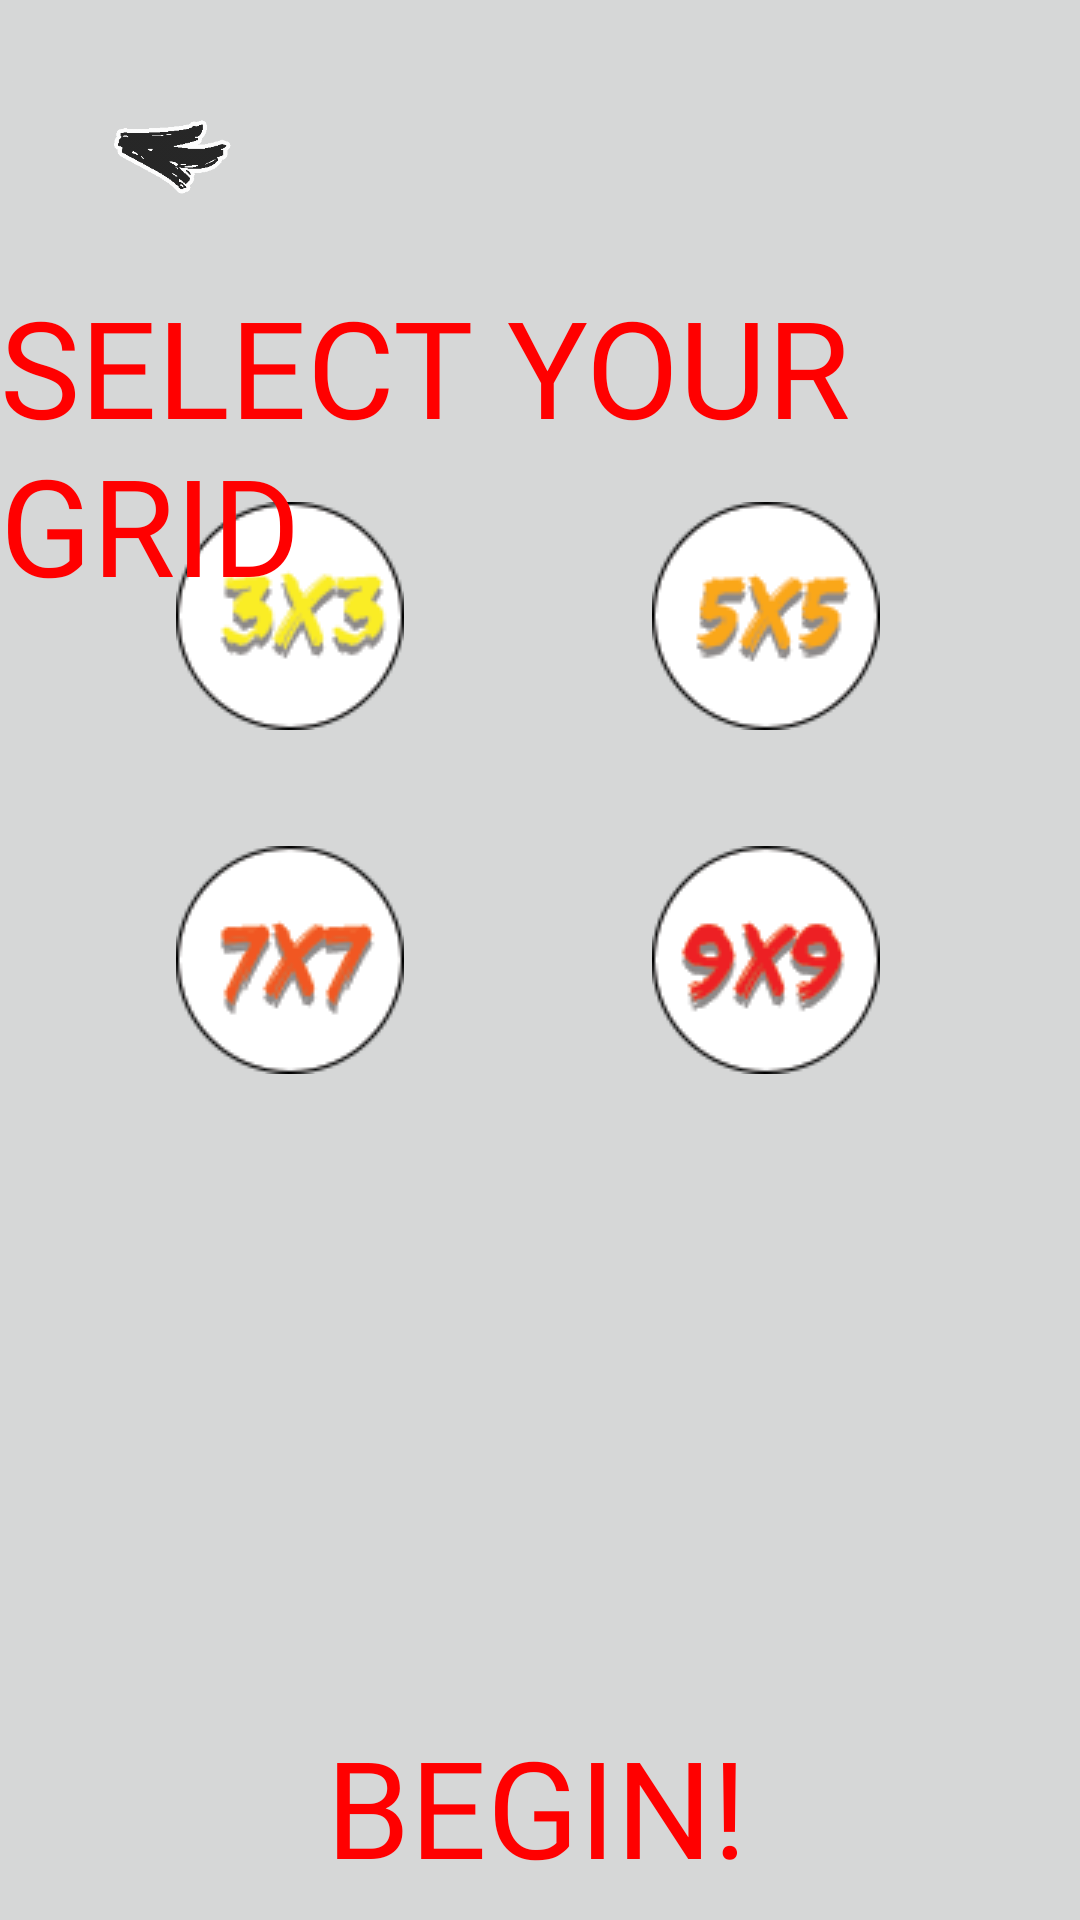

Screen size 1080×1920. Icon name, then its center in pixels as (x,y):
tbackbutton: (172,156)
